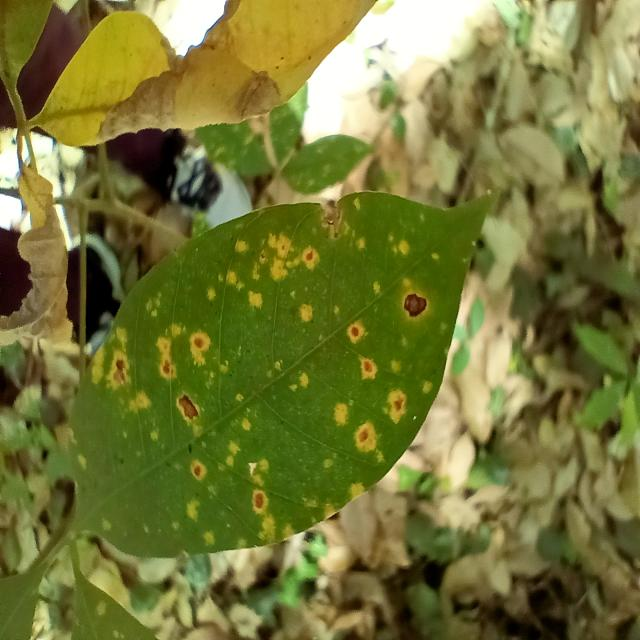Colletotrichum: (404, 293, 427, 318)
